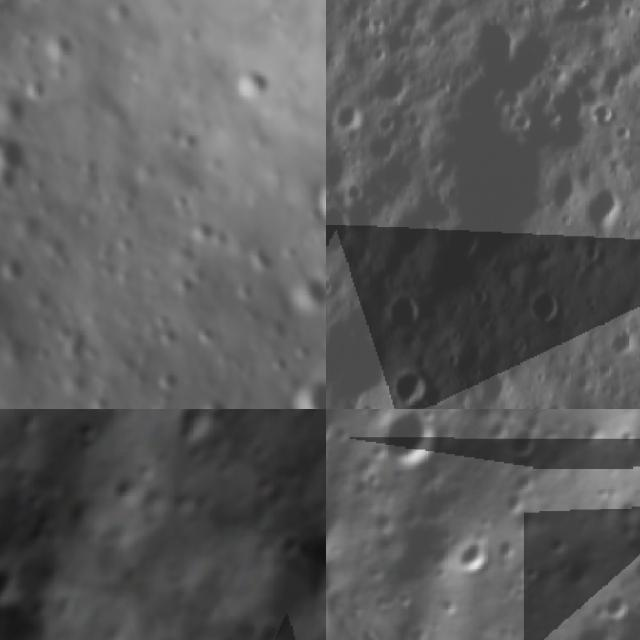crater: (431, 104, 571, 252), (362, 409, 459, 486), (326, 452, 370, 580), (534, 78, 588, 148), (444, 523, 502, 588), (491, 412, 549, 470), (465, 10, 517, 72), (548, 602, 627, 640), (565, 409, 620, 461), (510, 23, 560, 77), (497, 457, 546, 508), (276, 364, 326, 409), (226, 57, 272, 105), (519, 285, 563, 326), (598, 579, 639, 623), (469, 364, 509, 409), (581, 184, 621, 226), (370, 60, 412, 99), (384, 286, 423, 328), (598, 322, 635, 366), (286, 275, 326, 315), (0, 132, 36, 175), (492, 485, 532, 523), (393, 364, 428, 406), (326, 144, 357, 191), (44, 27, 81, 66), (329, 94, 365, 131), (512, 552, 548, 589), (459, 409, 514, 432), (326, 198, 349, 251), (155, 359, 184, 391), (253, 623, 293, 640), (364, 608, 398, 628), (311, 176, 326, 219), (326, 571, 342, 604), (197, 394, 231, 409)
